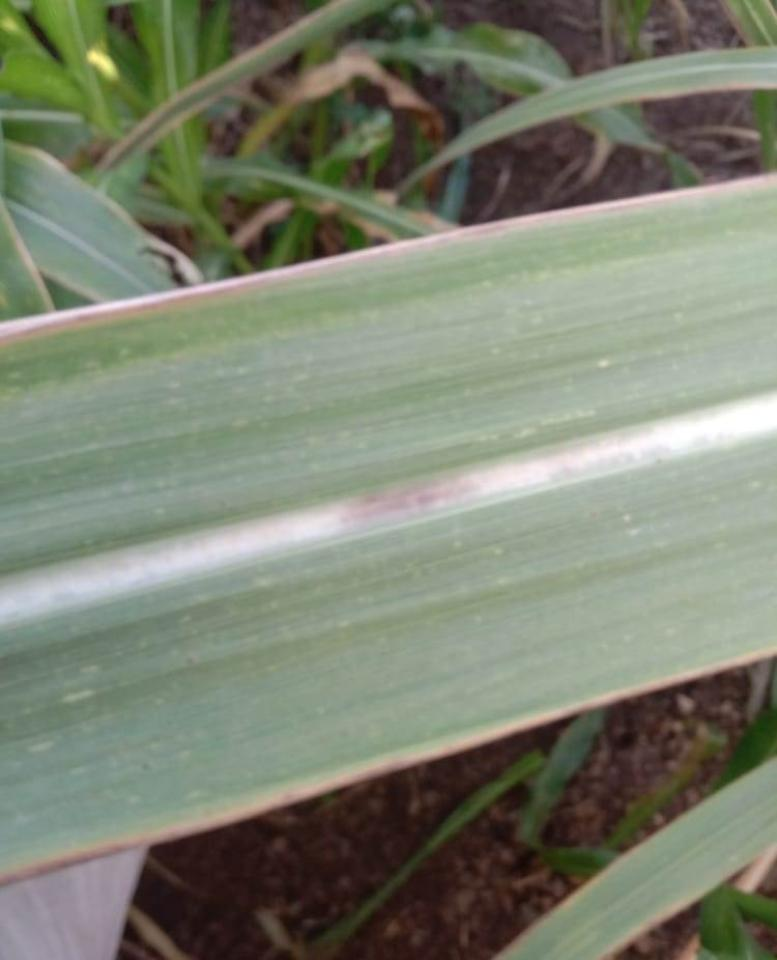RedRot: (336, 468, 487, 524)
